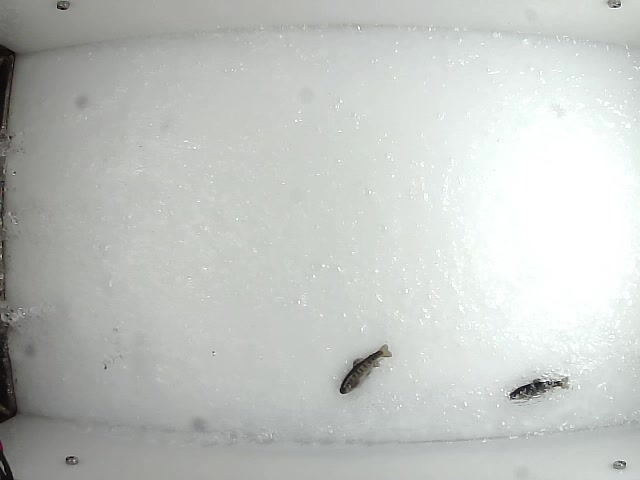fish: (337, 342, 396, 395), (506, 371, 574, 401)
